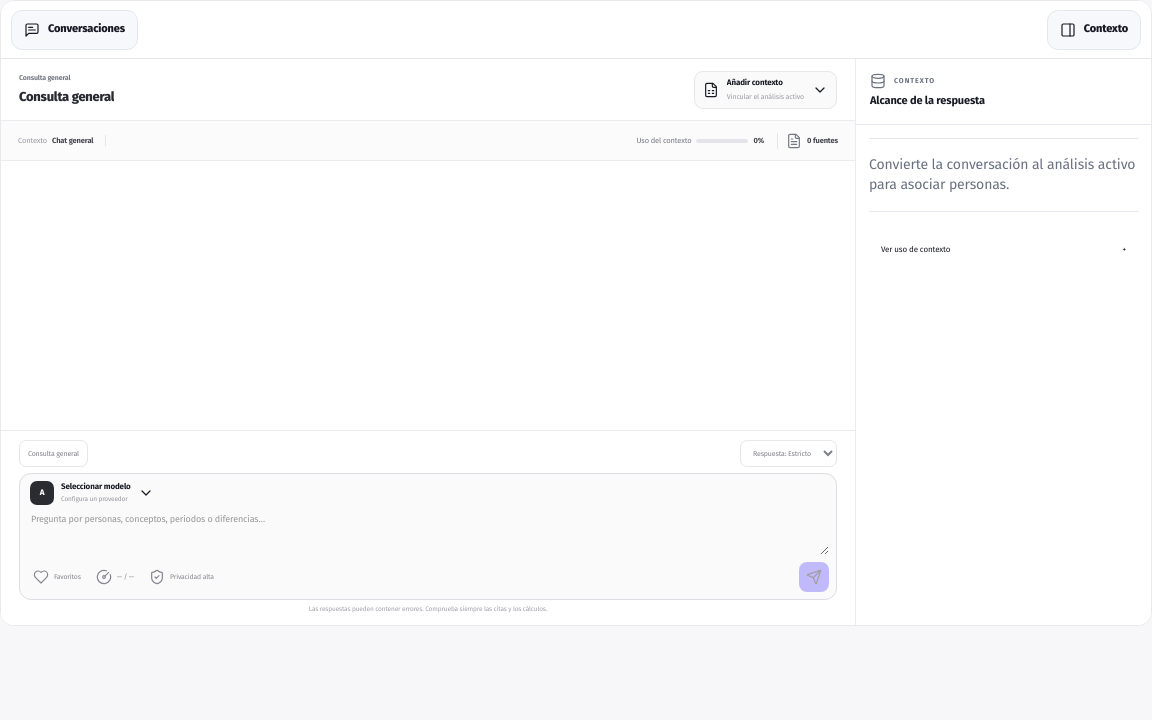
Test: assistant model selector regressions › ignores disabled providers even when their models are favorites
Click the button with aria-label "Modelo de conversación: sin seleccionar": [92, 493] box [27, 481, 157, 505]
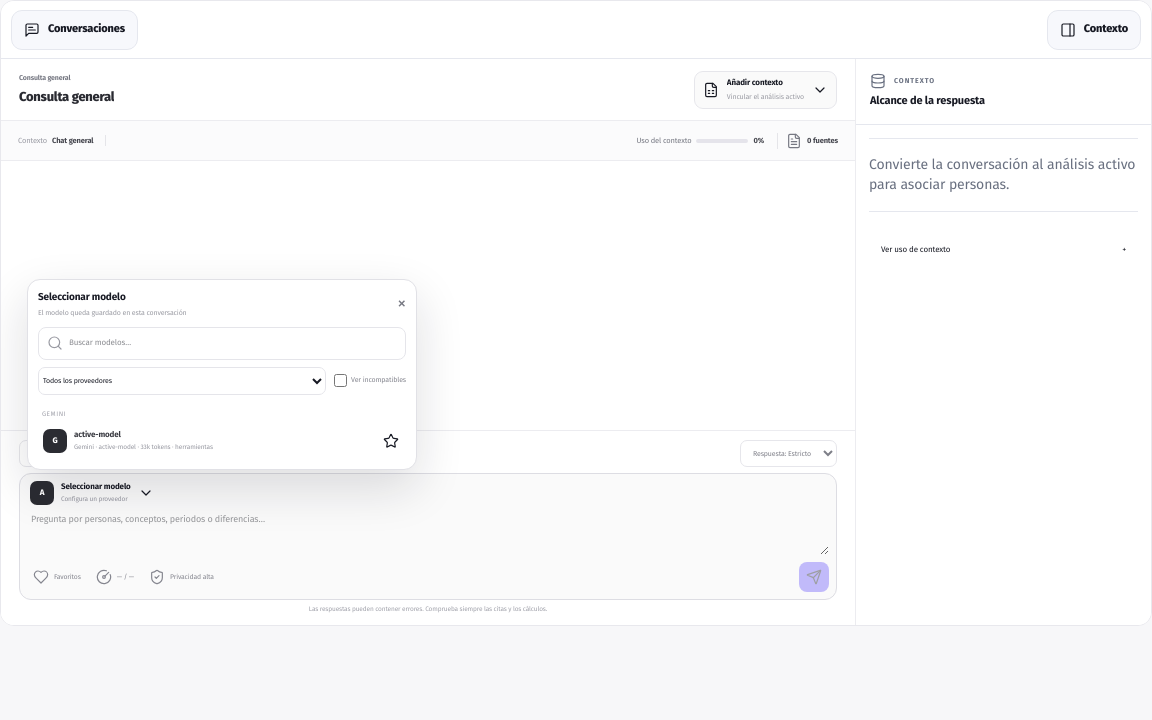
Expected: the text "active-model" is shown, [74, 430, 121, 439]
